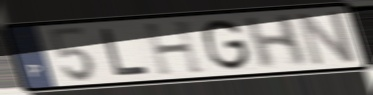5: (46, 24, 97, 84)
G: (201, 17, 254, 73)
H: (140, 18, 209, 78), (242, 12, 310, 71)
L: (97, 26, 153, 78)
N: (294, 8, 359, 68)
